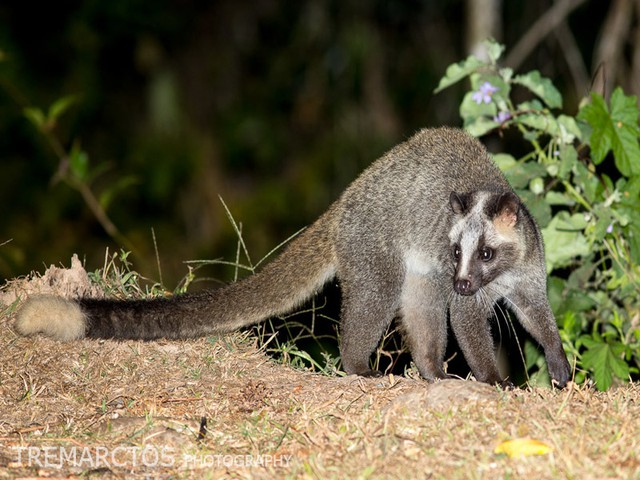civet: (18, 125, 572, 386)
